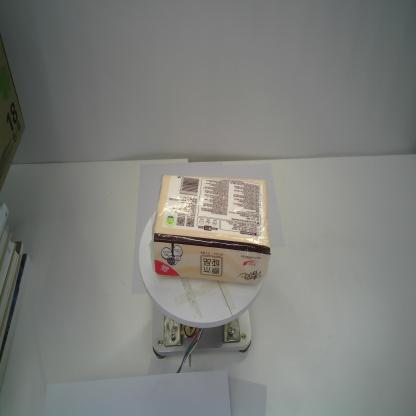Tissue: (148, 172, 272, 286)
